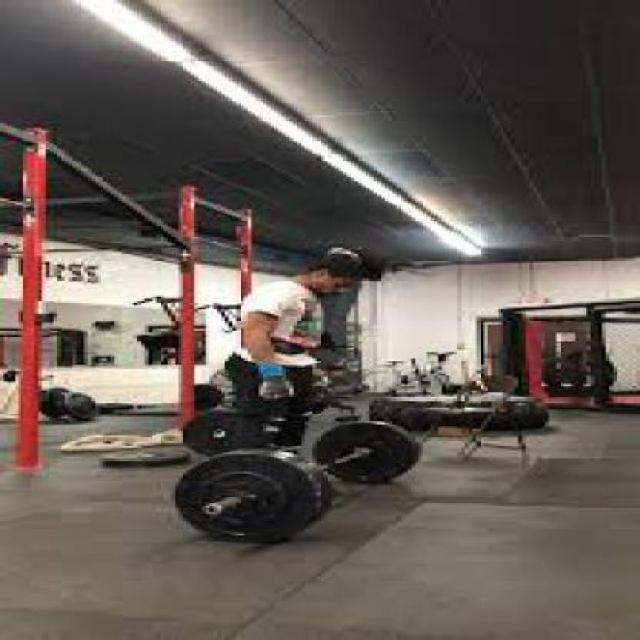barbell: (170, 447, 322, 550)
